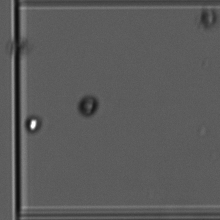Dead Cell: (79, 95, 102, 122), (197, 9, 216, 29)
Living Cell: (25, 114, 46, 142)
